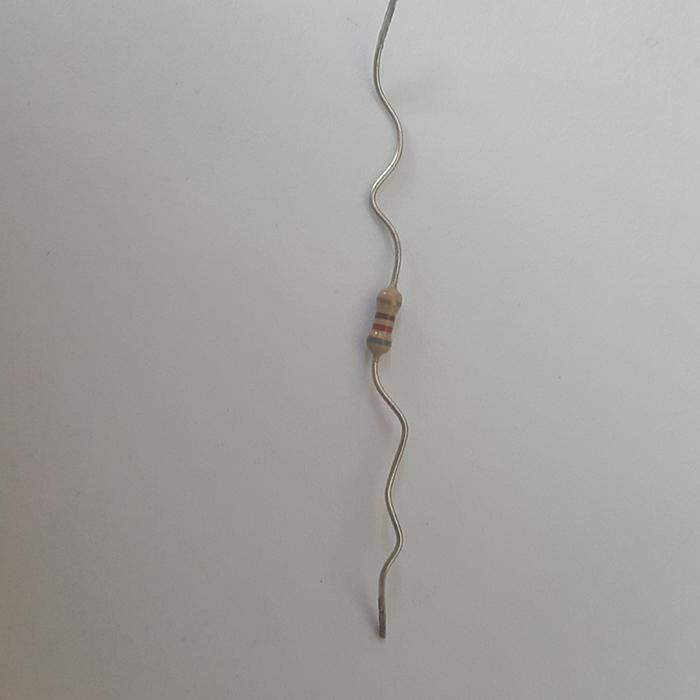resistor: (366, 283, 404, 359)
